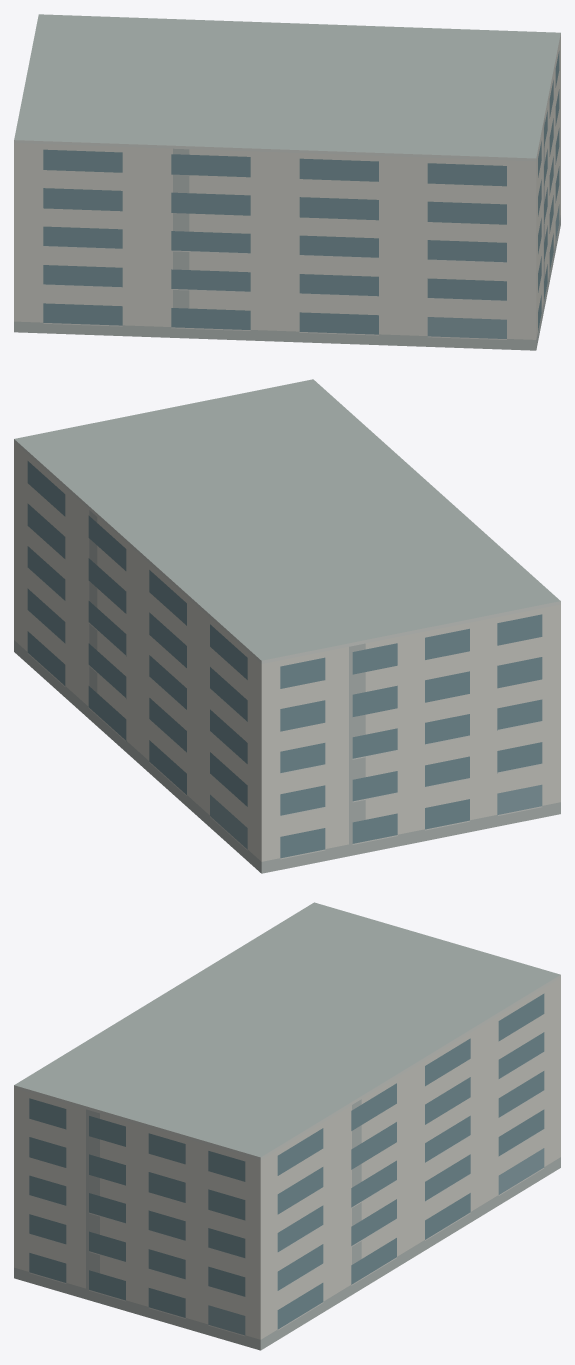
File: residential-5e273aad-fdf5-4edc-b738-831917738d9d.glb
The picture shows the model from 3 angles, top to bottom: view 1: azimuth 30°, elevation 25°; view 2: azimuth 150°, elevation 25°; view 3: azimuth 270°, elevation 25°; orthographic projection. The views are drawn at different scales.
Parts seen in each view (by area): view 1: residential-5e273aad-fdf5-4edc-b738-831917738d9d.tmp; view 2: residential-5e273aad-fdf5-4edc-b738-831917738d9d.tmp; view 3: residential-5e273aad-fdf5-4edc-b738-831917738d9d.tmp.
Part boxes in pixels (x1,y1,x2,y2): residential-5e273aad-fdf5-4edc-b738-831917738d9d.tmp: (14,14,560,350); residential-5e273aad-fdf5-4edc-b738-831917738d9d.tmp: (14,379,560,873); residential-5e273aad-fdf5-4edc-b738-831917738d9d.tmp: (14,902,560,1350).
Bounding box in the file's own units: 43.21 × 15.25 × 39.15.
